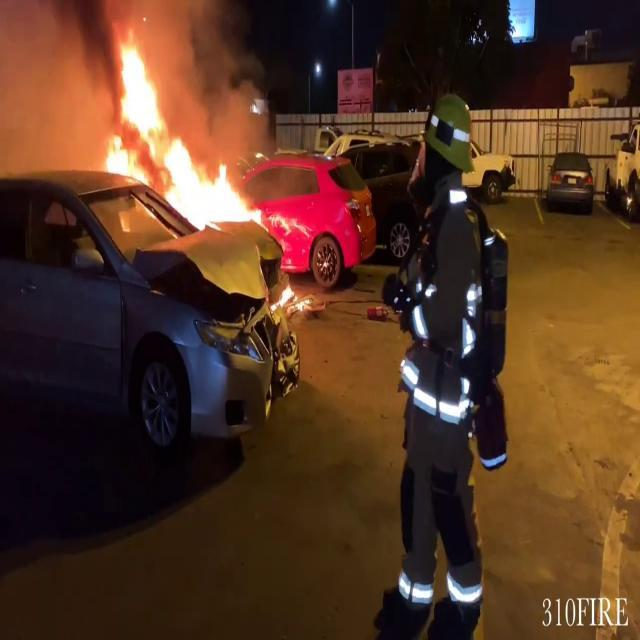Fire: (92, 32, 259, 230)
